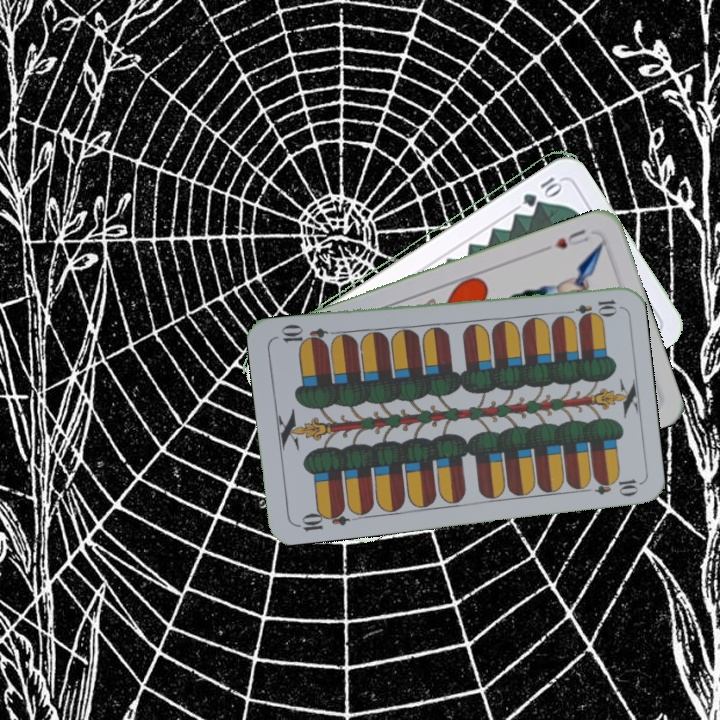E10: (292, 503, 351, 534), (560, 295, 620, 319)
G10: (518, 173, 563, 208)
HU: (550, 225, 594, 252)
